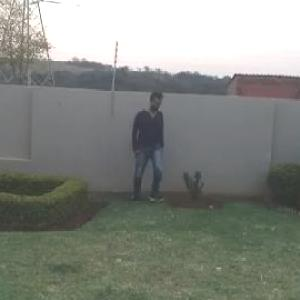follow: (129, 88, 164, 204)
